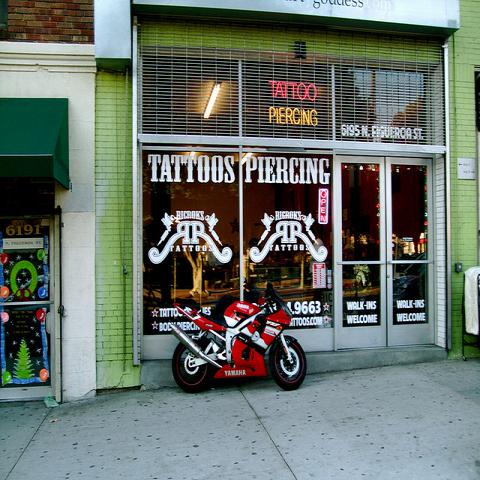motorcycle: (169, 274, 309, 394)
